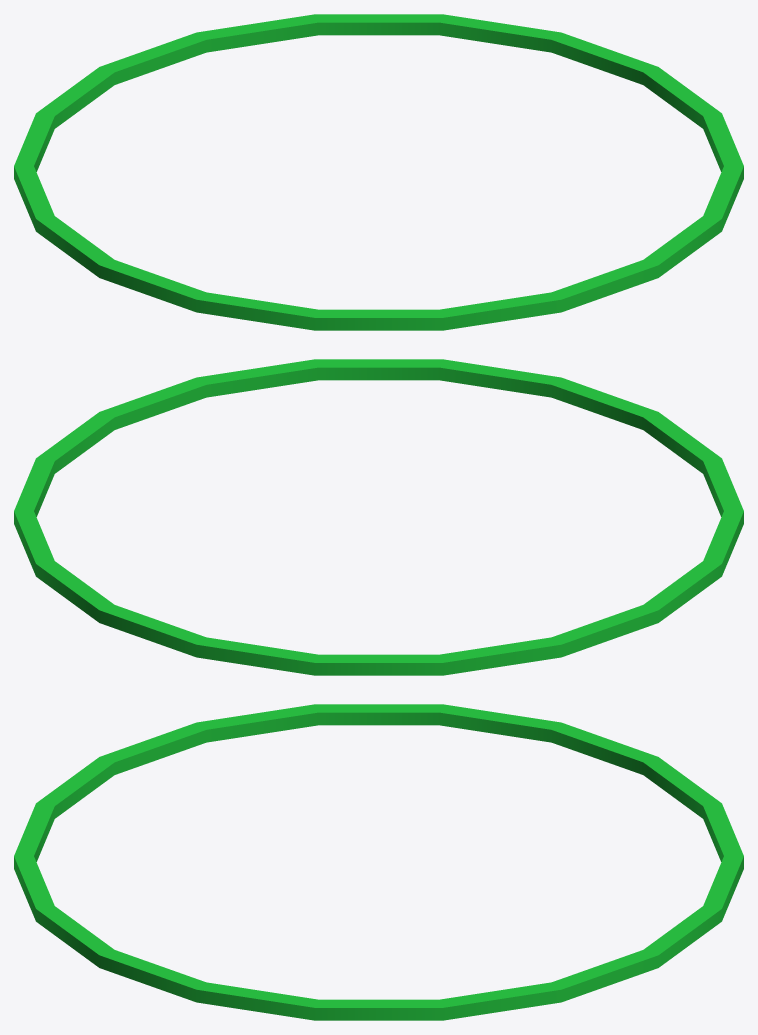
The model's file is FlatRange.FBX.
3 views of the same model, one above another, from view 1: azimuth 30°, elevation 25°; view 2: azimuth 150°, elevation 25°; view 3: azimuth 270°, elevation 25° (orthographic).
Parts seen in each view (by area): view 1: Tube001; view 2: Tube001; view 3: Tube001.
Boxes of the visible parts, x1,y1,x2,y2 form: Tube001: [14, 14, 743, 330]; Tube001: [14, 359, 743, 675]; Tube001: [14, 704, 743, 1020].
Size of the model in its own units: 360 by 7.06 by 366.
1 material, 1 textured.
